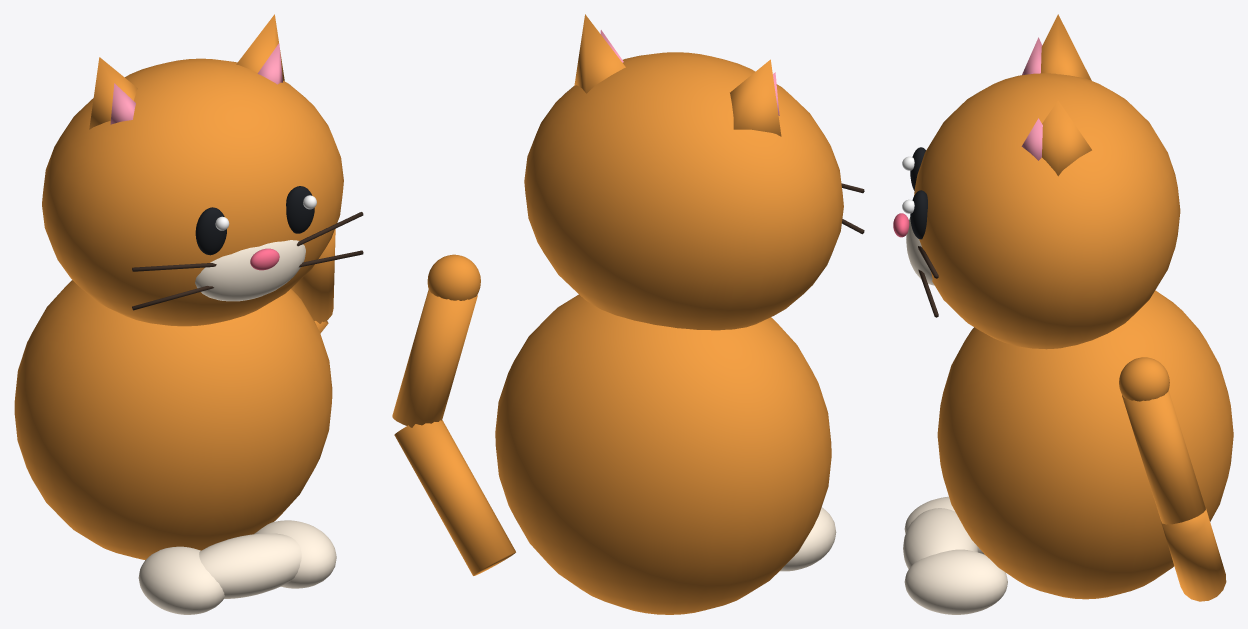
Rendered from gato.glb.
The picture shows the model from 3 angles, left to right: view 1: azimuth 30°, elevation 25°; view 2: azimuth 150°, elevation 25°; view 3: azimuth 270°, elevation 25°; orthographic projection. The views are drawn at different scales.
Visible parts, largest first — view 1: Sphere, cabeza, Sphere.001, Sphere.002, Sphere.003, cola; view 2: Sphere, cabeza, cola, Sphere.002; view 3: cabeza, Sphere, cola, Sphere.003, Sphere.001, Sphere.002.
Part boxes in pixels (x1,y1,x2,y2): Sphere: [14, 280, 332, 559]; cabeza: [42, 14, 363, 326]; Sphere.001: [199, 533, 301, 598]; Sphere.002: [138, 546, 224, 614]; Sphere.003: [254, 520, 336, 588]; cola: [291, 229, 335, 333]; Sphere: [495, 294, 831, 614]; cabeza: [524, 14, 864, 330]; cola: [392, 254, 515, 575]; Sphere.002: [780, 507, 836, 571]; cabeza: [893, 14, 1180, 349]; Sphere: [937, 290, 1233, 599]; cola: [1119, 357, 1226, 601]; Sphere.003: [904, 549, 1007, 614]; Sphere.001: [903, 508, 978, 569]; Sphere.002: [904, 496, 984, 554].
Bounding box in the file's own units: 1.03 × 1.48 × 0.869.
